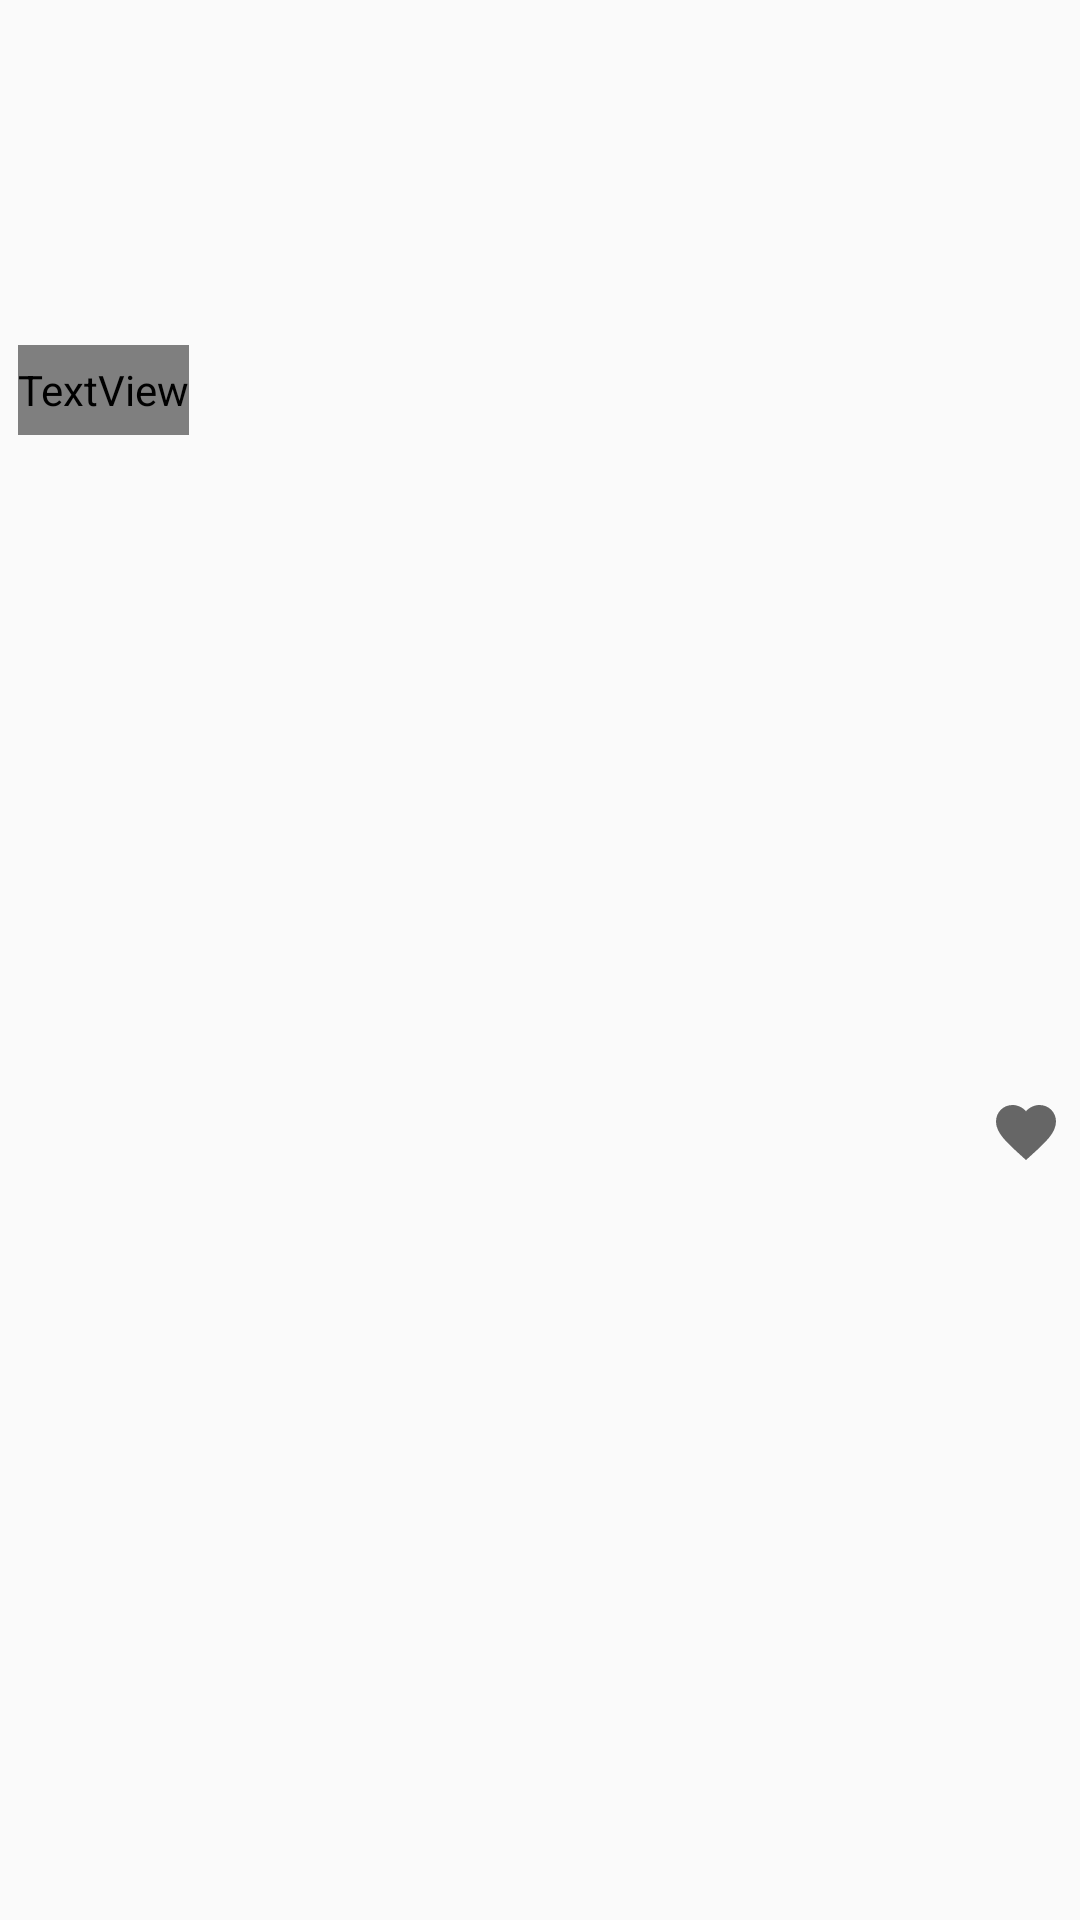

Screen size 1080px x 1920px. Icon name, then its box in pixels as (x1=x1, y1=y1, x2=x2, y2=y2):
Favorite Button Icon: (x1=996, y1=1105, x2=1056, y2=1160)
